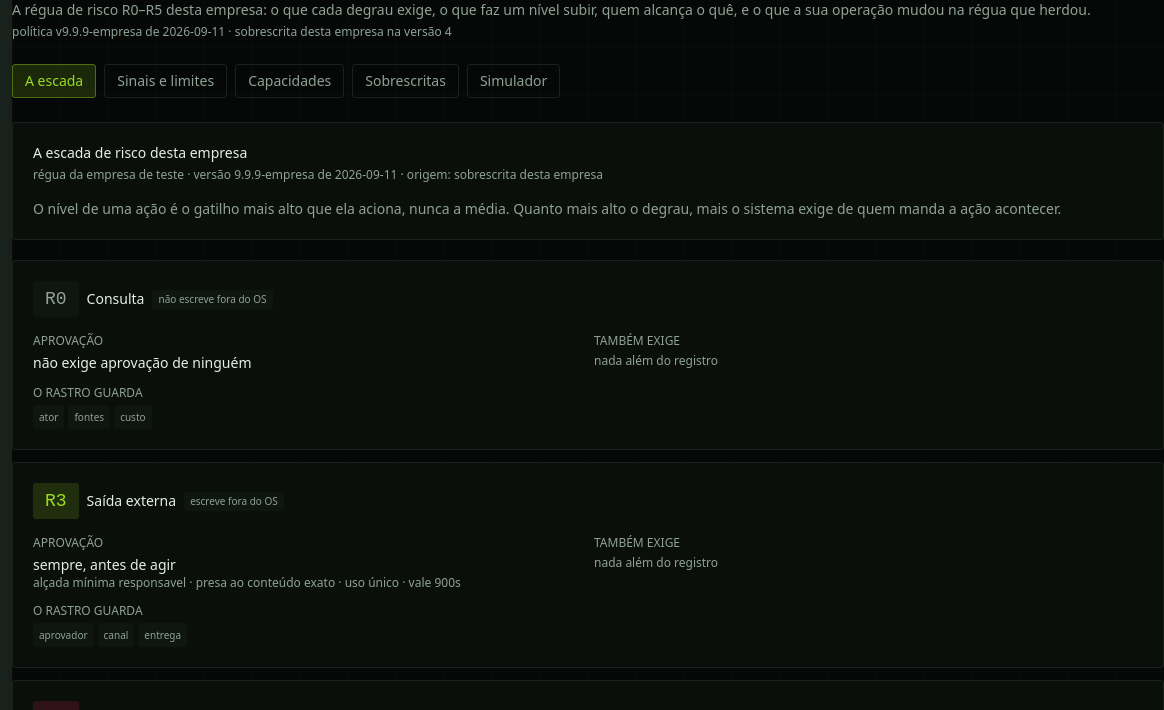
Test: a tela da Régua › mostra os sinais e diz qual é de mão única
Click the button "Sinais e limites" at (166, 81), box [104,64,227,98]
(page scrolled)
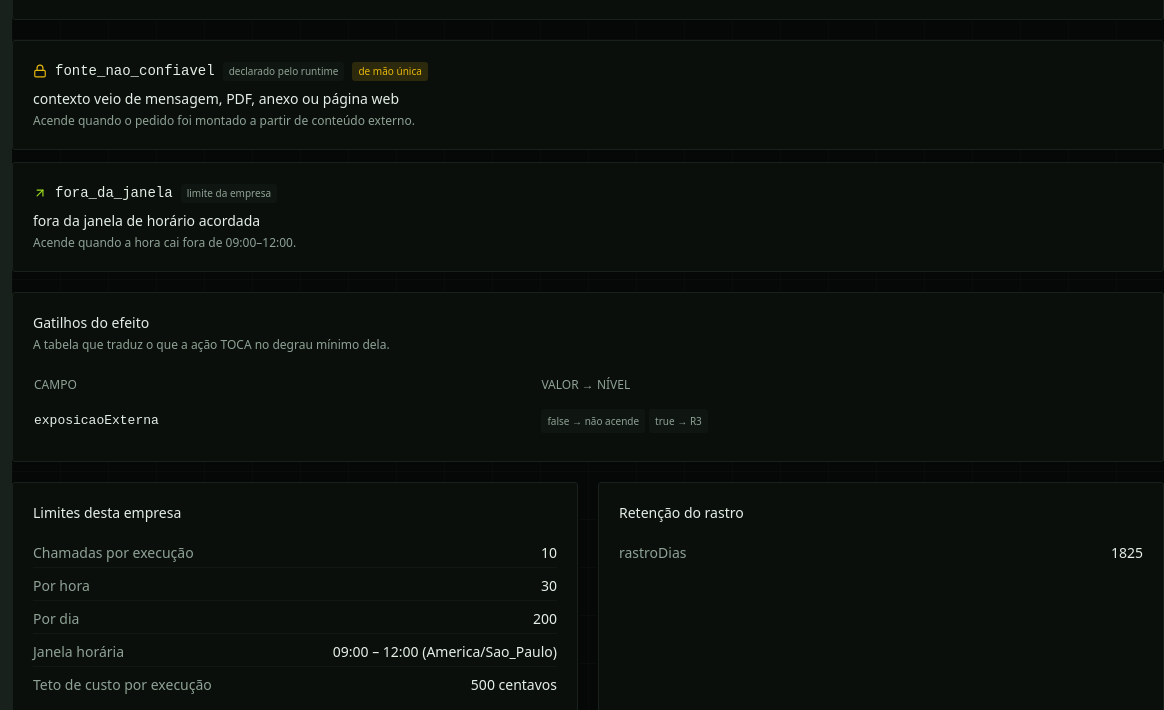
Now the heading "fonte_nao_confiavel" is shown, box [55,61,215,81]
Now the text "de mão única" is shown, box [352,62,428,80]
Now the text "Acende quando o pedido foi montado a partir de conteúdo externo" is shown, box [33,112,415,129]
